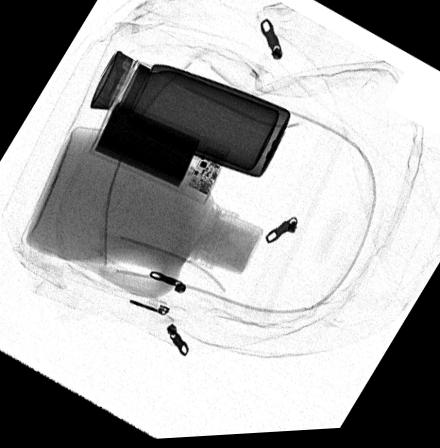Powerbank: (89, 100, 232, 210)
